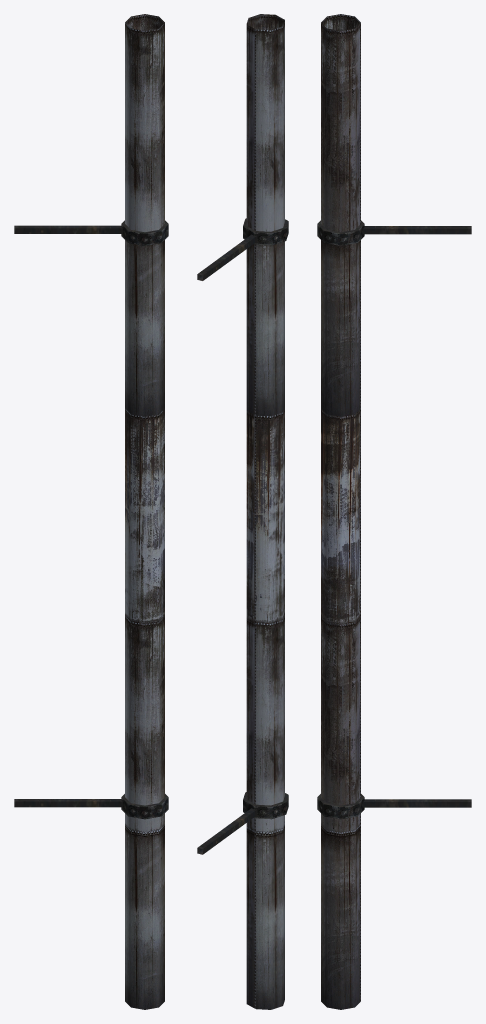
The model's file is rainpipe_4m_top.DAE.
3 renders of one model, left to right at view 1: azimuth 90°, elevation 25°; view 2: azimuth 150°, elevation 25°; view 3: azimuth 270°, elevation 25°, orthographic.
Visible parts, largest first — view 1: Object009, Object014; view 2: Object009, Object014; view 3: Object009, Object014.
Boxes of the visible parts, <box> form: Object009: <box>125,14,164,1009</box>; Object014: <box>14,220,168,819</box>; Object009: <box>246,14,284,1009</box>; Object014: <box>197,218,288,854</box>; Object009: <box>321,14,360,1009</box>; Object014: <box>317,220,471,819</box>.
Bounding box in the file's own units: 0.175 × 4 × 0.5711.
